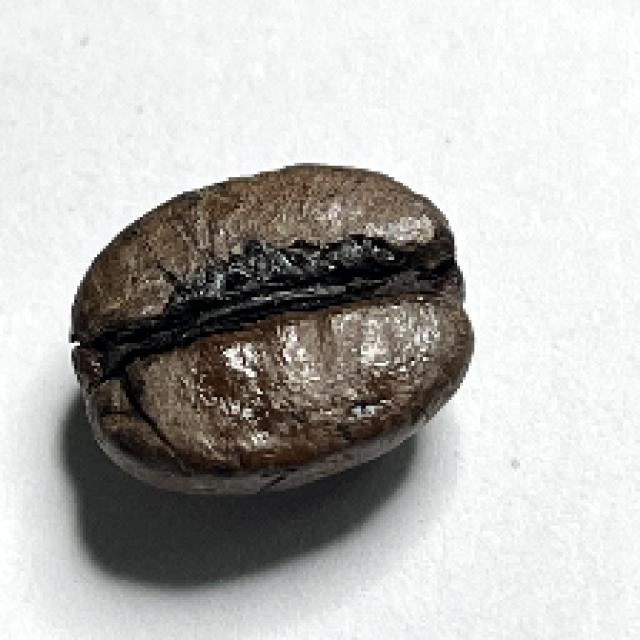bean: (62, 158, 475, 492)
